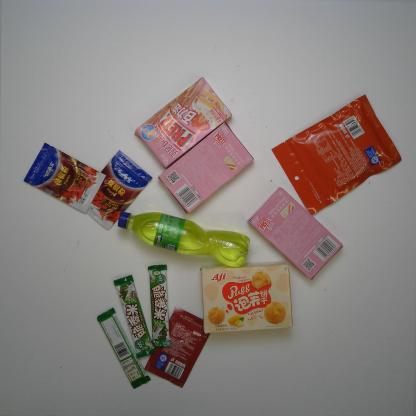Chocolate: (94, 306, 150, 388), (112, 272, 158, 356), (143, 262, 171, 346)
Dessert: (132, 78, 233, 168), (246, 185, 343, 278), (156, 122, 254, 214), (198, 262, 295, 336)
Dried Fruit: (268, 92, 404, 214)
Drink: (112, 208, 253, 269)
Seasoner: (24, 143, 107, 212), (144, 306, 212, 388), (82, 151, 152, 228)
